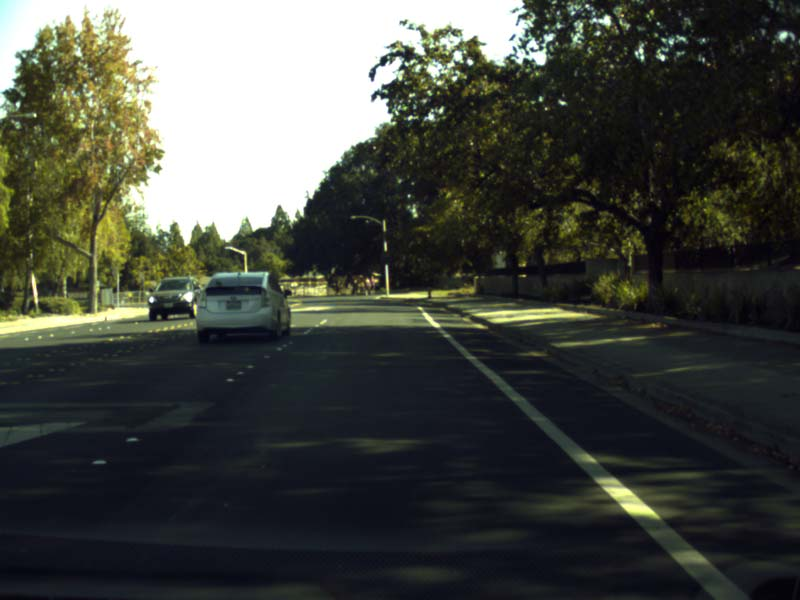Green: (361, 217, 370, 229)
